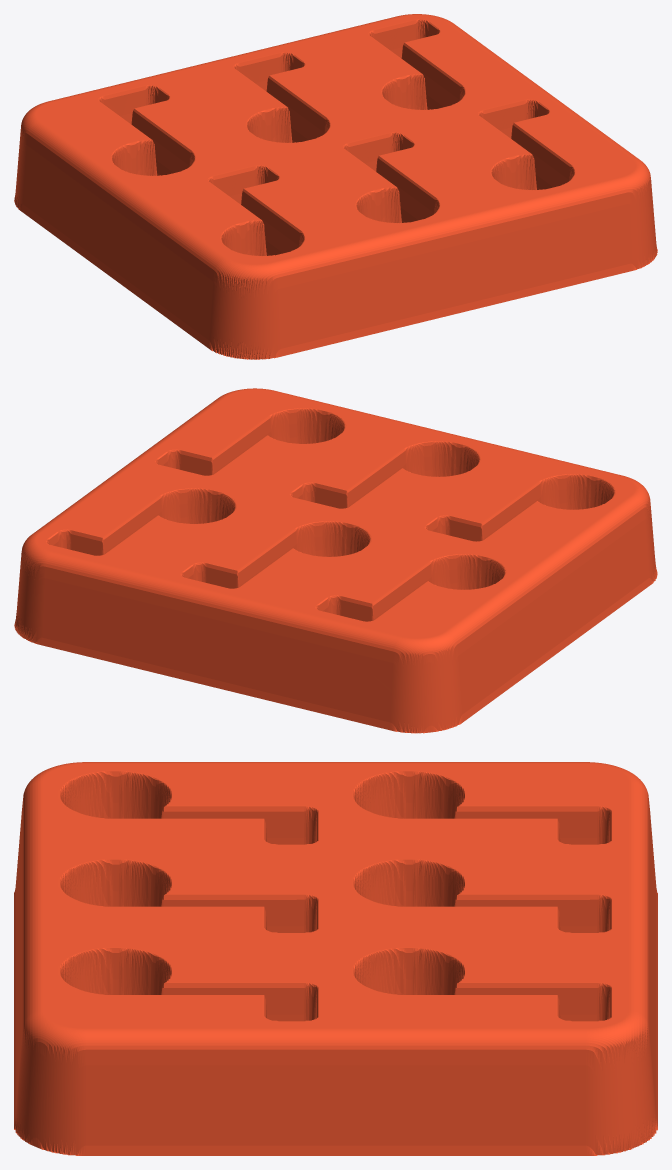
The model's file is mold.glb.
3 renders of one model, top to bottom at view 1: azimuth 30°, elevation 25°; view 2: azimuth 150°, elevation 25°; view 3: azimuth 270°, elevation 25°, orthographic. The views are drawn at different scales.
Visible parts, largest first — view 1: geometry_0; view 2: geometry_0; view 3: geometry_0.
Boxes of the visible parts, box(x1,y1,x2,y2) form: geometry_0: box(14, 14, 657, 359); geometry_0: box(14, 388, 657, 733); geometry_0: box(14, 762, 657, 1155).
Size of the model in its own units: 0.0858 by 0.0159 by 0.0808.
